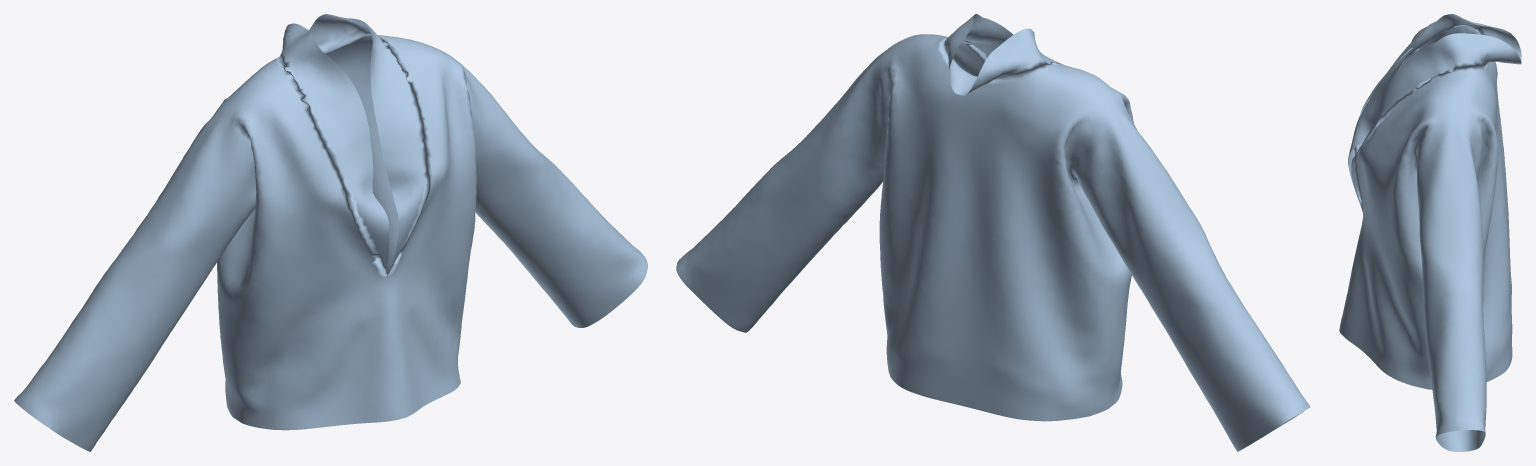
The model's file is jacket_L.glb.
3 renders of one model, left to right at view 1: azimuth 30°, elevation 25°; view 2: azimuth 150°, elevation 25°; view 3: azimuth 270°, elevation 25°, orthographic. The views are drawn at different scales.
Parts seen in each view (by area): view 1: geometry_0; view 2: geometry_0; view 3: geometry_0.
Boxes of the visible parts, x1,y1,x2,y2 form: geometry_0: [14, 14, 647, 451]; geometry_0: [676, 14, 1310, 451]; geometry_0: [1339, 14, 1521, 451].
Size of the model in its own units: 1.21 by 0.6789 by 0.3463.
